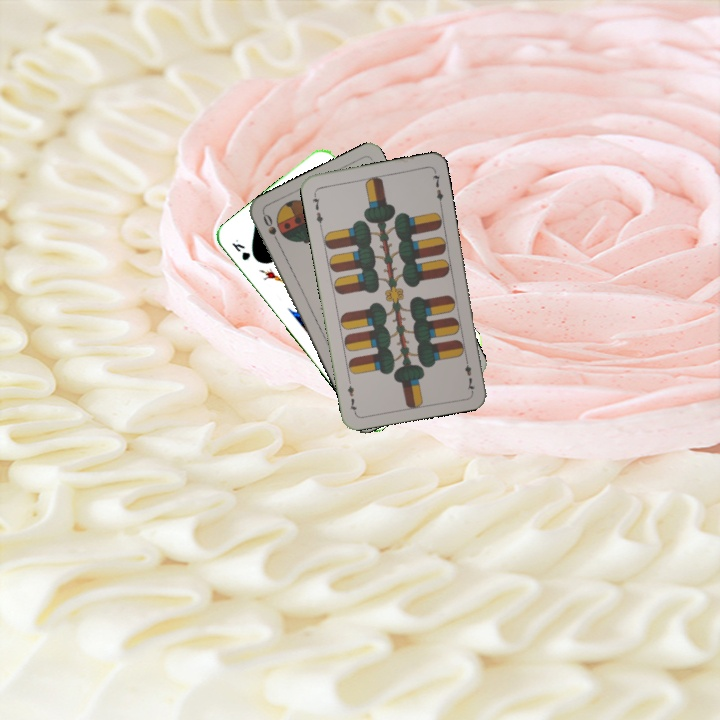E7: (308, 188, 326, 229), (461, 353, 478, 393)
GK: (227, 235, 253, 263)
SO: (259, 210, 283, 248)
